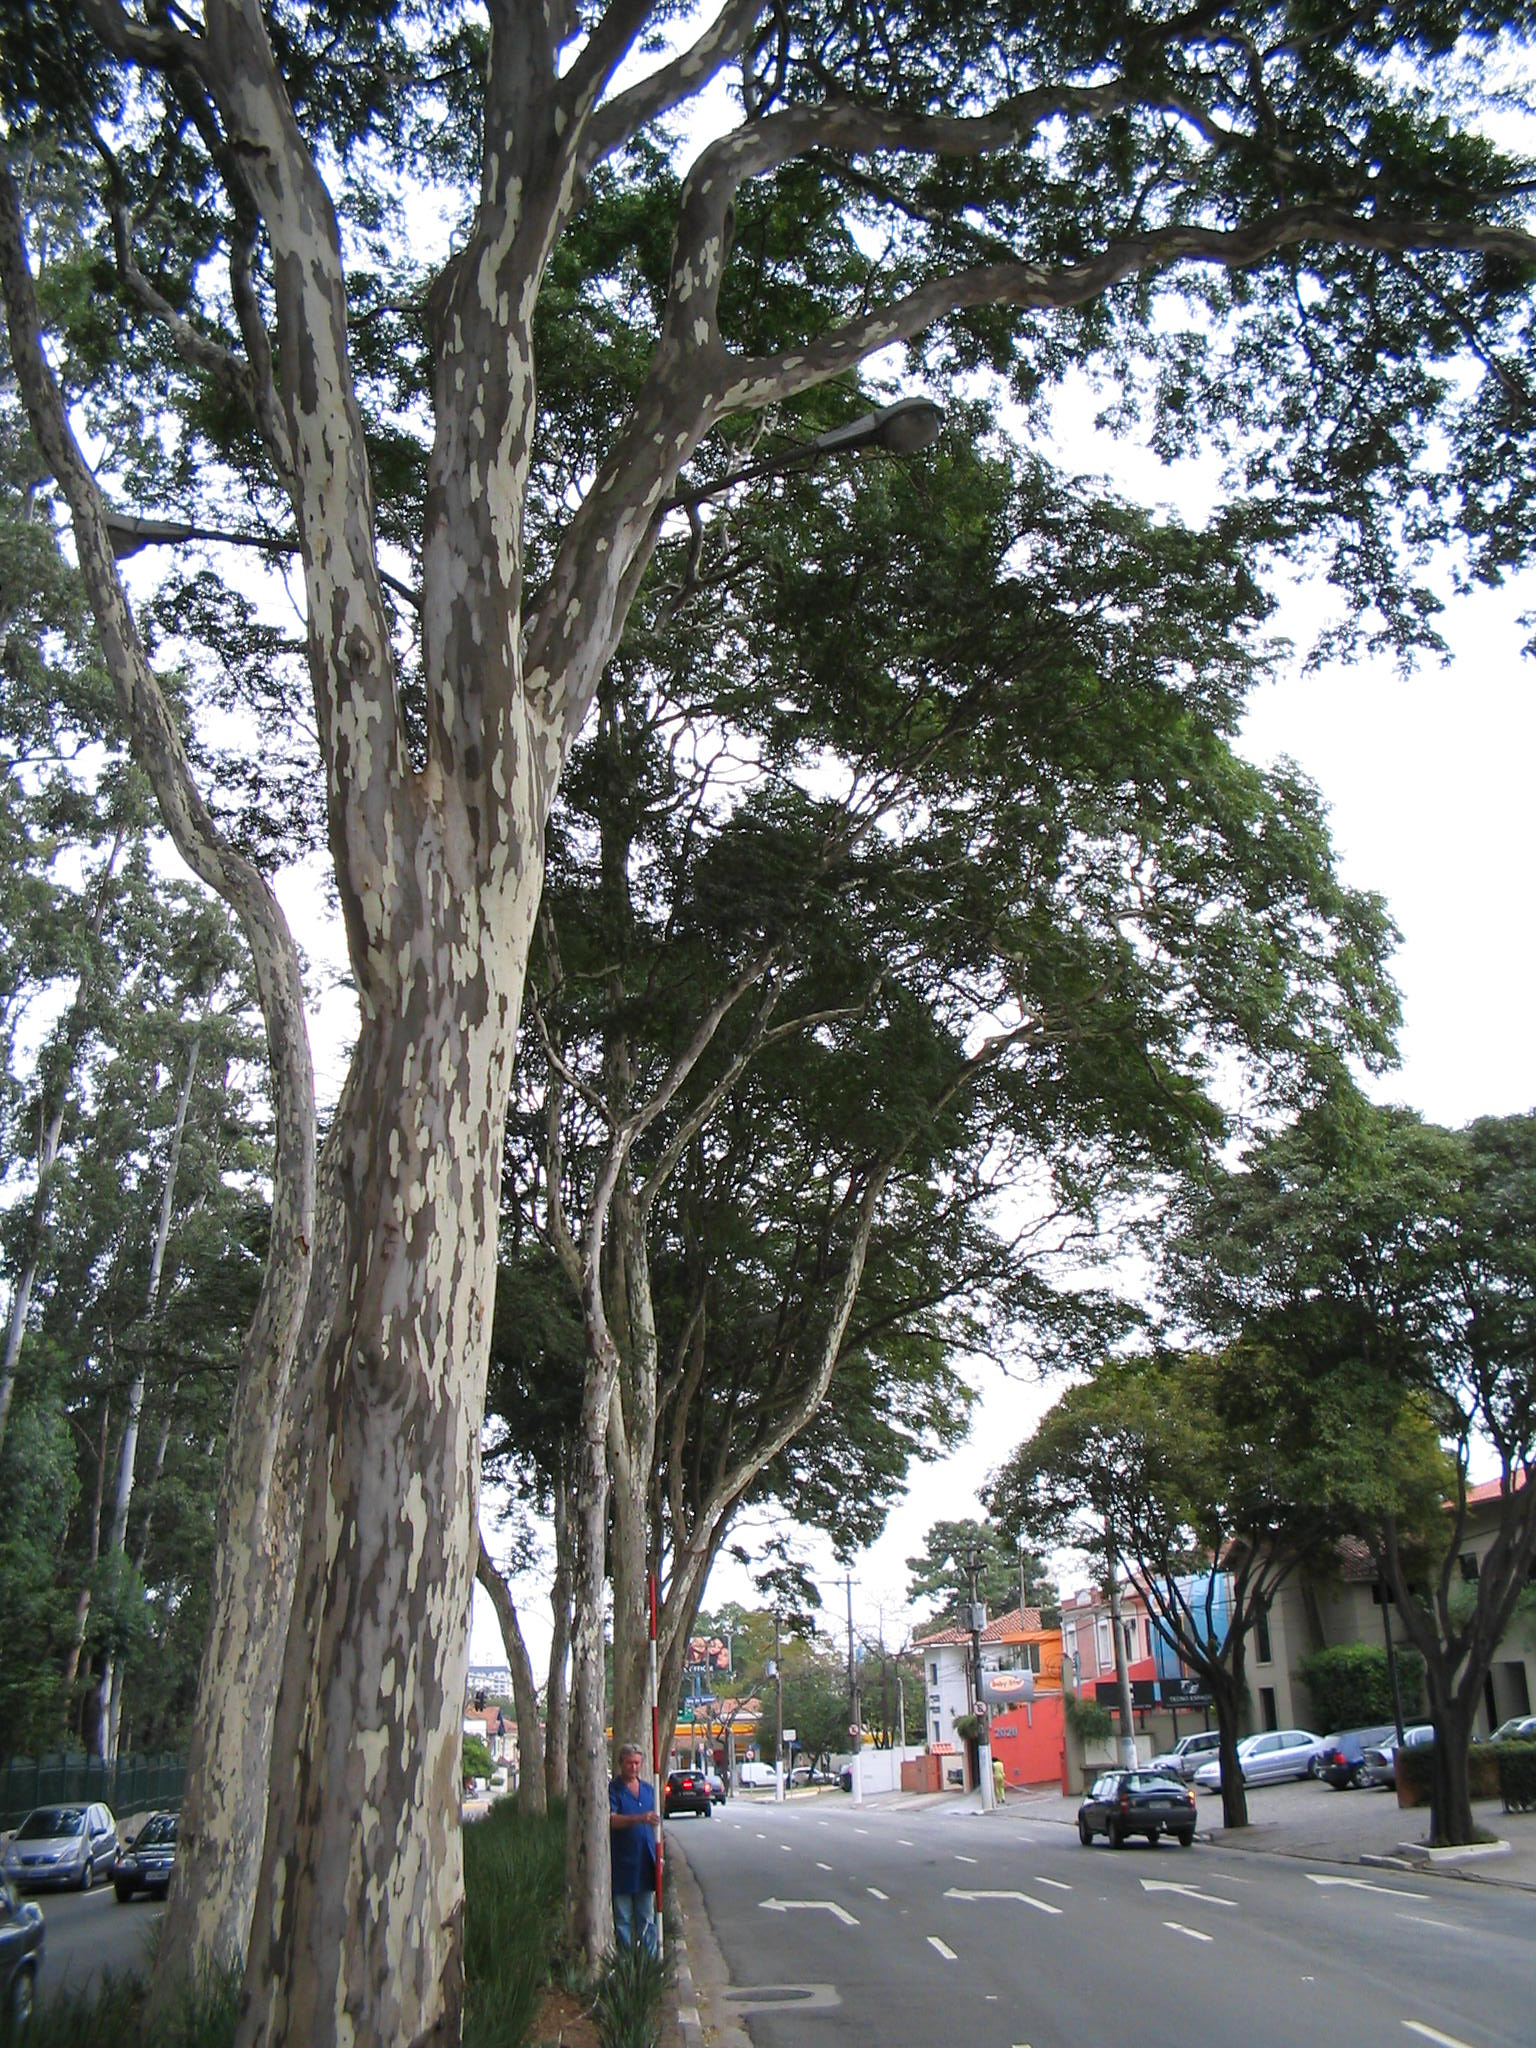crown: (991, 1347, 1449, 1587)
stem: (1391, 1675, 1496, 1837), (1175, 1675, 1275, 1824)
stick: (616, 1571, 695, 1958)
tree: (1157, 1074, 1536, 1850), (979, 1347, 1454, 1825)
